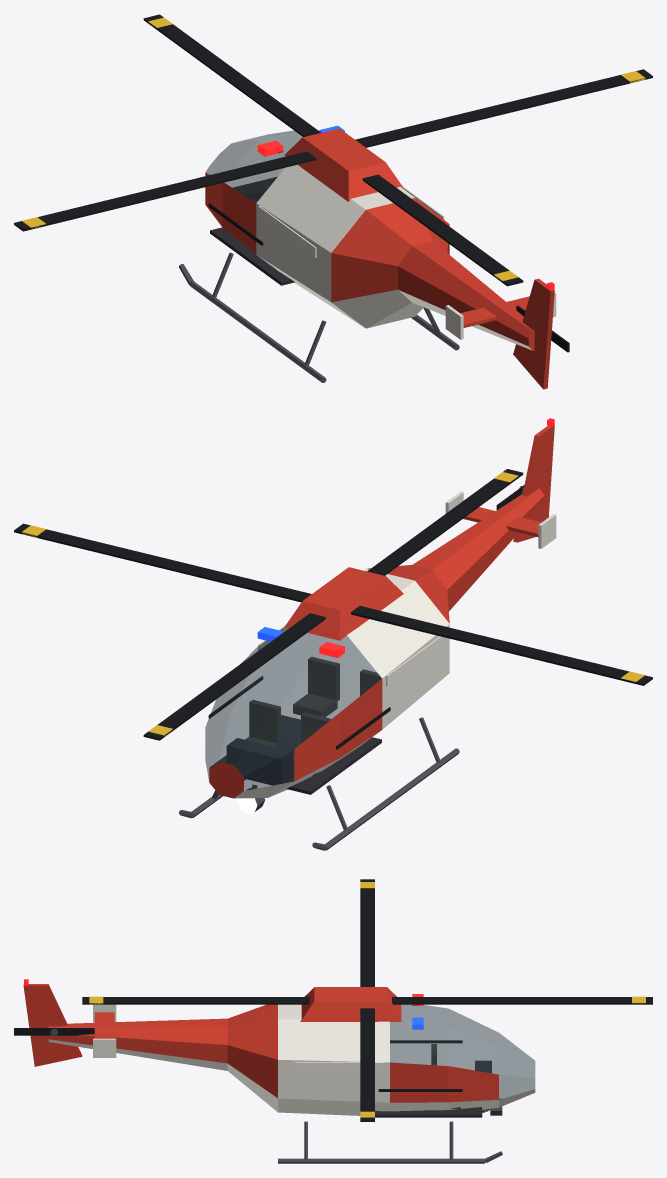
The model's file is heli_police.glb.
3 views of the same model, one above another, from view 1: azimuth 30°, elevation 25°; view 2: azimuth 150°, elevation 25°; view 3: azimuth 270°, elevation 25° (orthographic). The views are drawn at different scales.
Visible parts, largest first — view 1: heli_police, heli_police_rotor_main; view 2: heli_police, heli_police_rotor_main; view 3: heli_police, heli_police_rotor_main, heli_police_rotor_tail.
Boxes of the visible parts, x1,y1,x2,y2 form: heli_police: [179, 125, 556, 389]; heli_police_rotor_main: [14, 14, 652, 286]; heli_police: [179, 418, 556, 850]; heli_police_rotor_main: [14, 469, 652, 740]; heli_police: [23, 979, 535, 1163]; heli_police_rotor_main: [82, 879, 652, 1121]; heli_police_rotor_tail: [14, 1027, 94, 1036].
Size of the model in its own units: 10.2 by 3.1 by 11.42.
